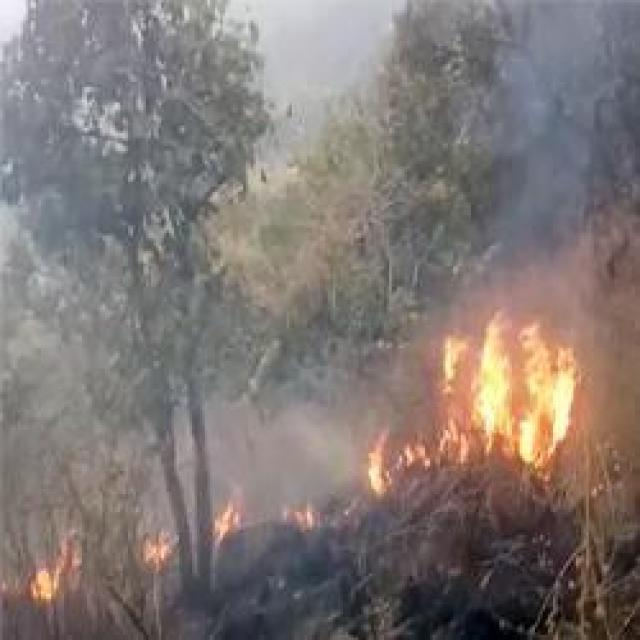fire: (398, 302, 596, 478), (31, 532, 89, 611), (367, 428, 394, 504), (138, 532, 179, 577), (283, 497, 328, 538), (210, 495, 241, 546)
